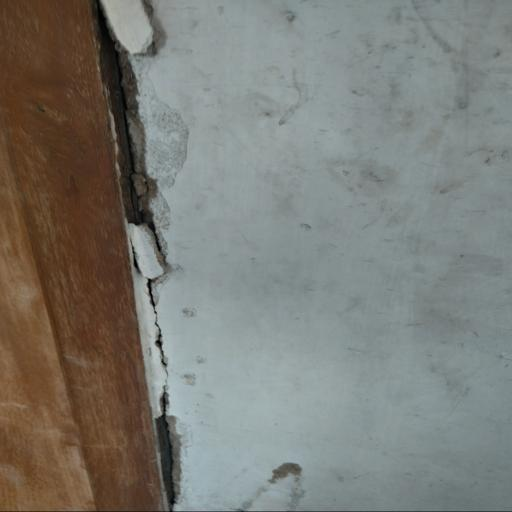spalling: (86, 0, 199, 512)
